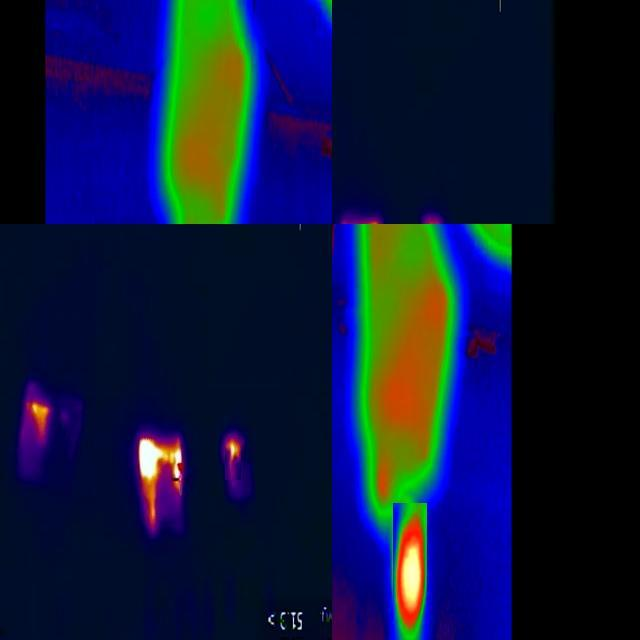fire: (135, 433, 185, 533), (393, 503, 427, 640), (29, 401, 51, 439), (225, 434, 241, 480)
